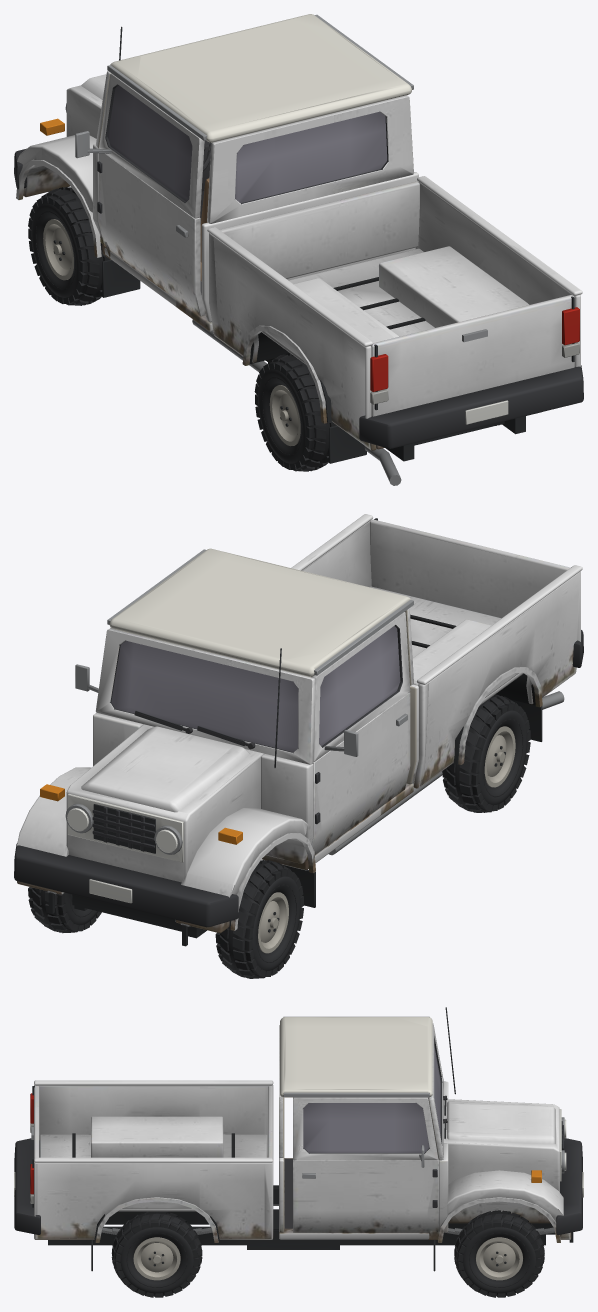
The model's file is fortyfive.m.glb.
3 renders of one model, top to bottom at view 1: azimuth 30°, elevation 25°; view 2: azimuth 150°, elevation 25°; view 3: azimuth 270°, elevation 25°, orthographic. The views are drawn at different scales.
Parts seen in each view (by area): view 1: body, door_FL, wheel_FL, wheel_RL, cab_interior; view 2: body, door_FL, wheel_FL, wheel_RL, wheel_FR; view 3: body, door_FR, wheel_FR, wheel_RR, cab_interior.
Boxes of the visible parts, <box> form: body: <box>14,14,583,485</box>; door_FL: <box>75,73,205,316</box>; wheel_FL: <box>28,187,109,305</box>; wheel_RL: <box>254,353,336,471</box>; cab_interior: <box>200,144,210,294</box>; body: <box>14,514,583,946</box>; door_FL: <box>311,612,410,854</box>; wheel_FL: <box>215,860,303,978</box>; wheel_RL: <box>442,694,530,812</box>; wheel_FR: <box>28,887,101,933</box>; body: <box>14,1007,583,1271</box>; door_FR: <box>293,1097,438,1232</box>; wheel_FR: <box>454,1210,544,1297</box>; wheel_RR: <box>111,1211,202,1297</box>; cab_interior: <box>284,1097,438,1228</box>.
Size of the model in its own units: 2.12 by 2.13 by 4.91.
Materials: 17 (1 with a texture image).
